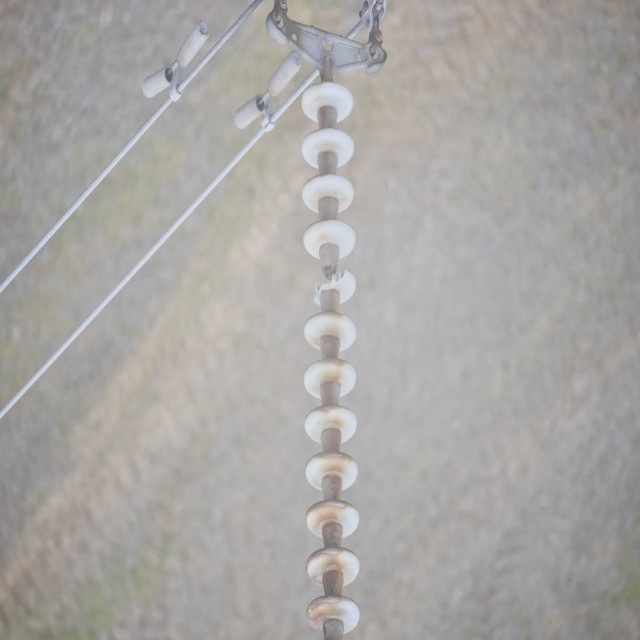broken: (312, 265, 351, 305)
insulator: (302, 82, 362, 630)
